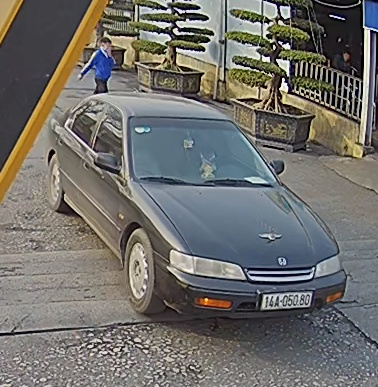vehicle plate: (255, 286, 317, 315)
